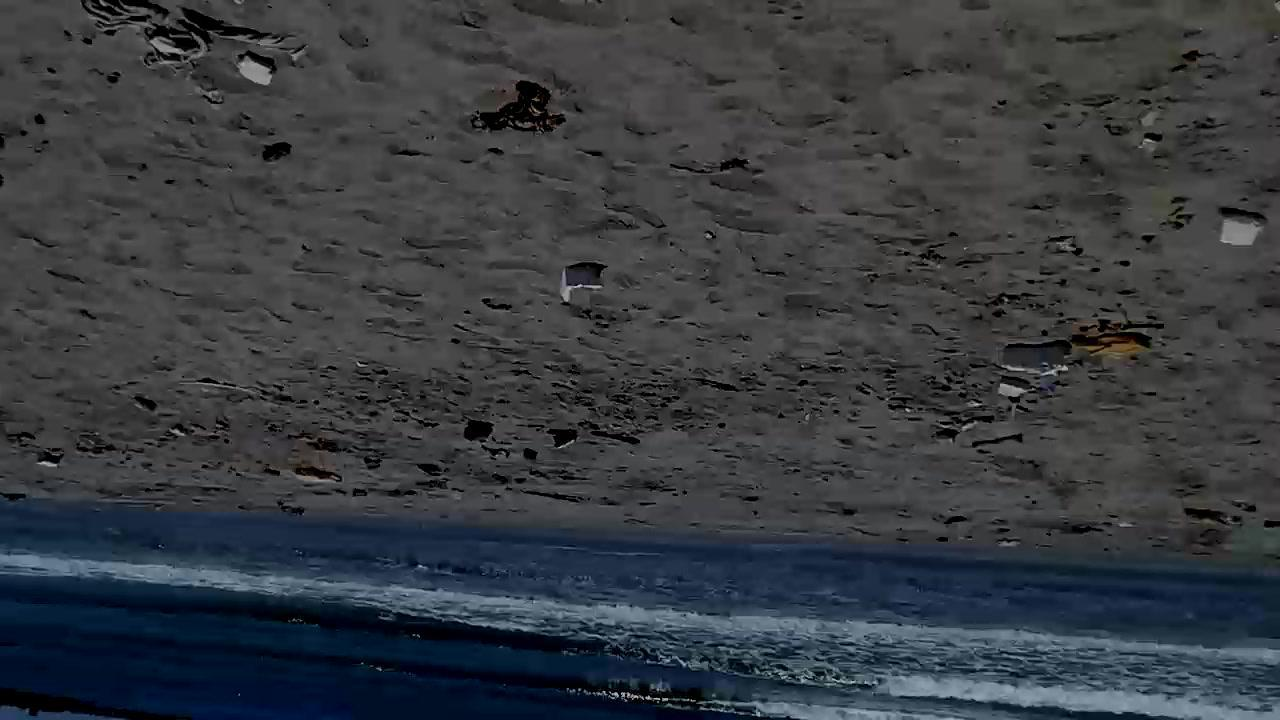obj: (73, 1, 307, 77), (473, 76, 568, 142), (1066, 332, 1147, 365), (1217, 201, 1268, 251), (1001, 341, 1070, 374), (561, 262, 608, 308), (233, 52, 278, 84), (542, 425, 580, 453), (290, 467, 344, 485), (256, 141, 294, 166), (460, 422, 494, 444), (1000, 378, 1034, 396), (34, 450, 58, 470)
sand/background: (1, 500, 1279, 720)
